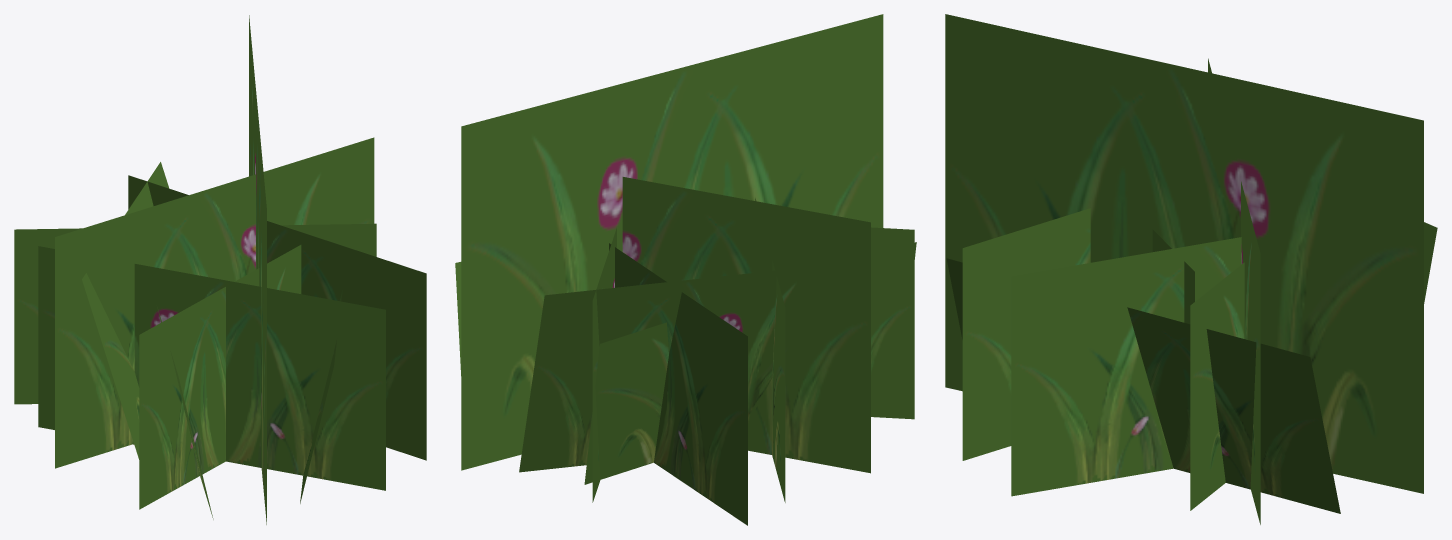
The model's file is kuanyecao_42.FBX.
The picture shows the model from 3 angles, left to right: view 1: azimuth 30°, elevation 25°; view 2: azimuth 150°, elevation 25°; view 3: azimuth 270°, elevation 25°; orthographic projection. The views are drawn at different scales.
Visible parts, largest first — view 1: kuanyecao_42; view 2: kuanyecao_42; view 3: kuanyecao_42.
Boxes of the visible parts, x1,y1,x2,y2 form: kuanyecao_42: [14, 15, 426, 524]; kuanyecao_42: [455, 14, 916, 525]; kuanyecao_42: [945, 14, 1437, 524].
Size of the model in its own units: 219 by 195 by 232.
